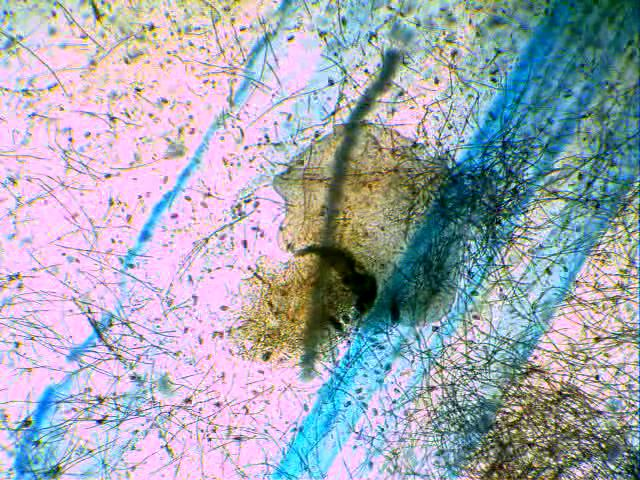Placozoan: (274, 122, 500, 334), (227, 249, 371, 366)
